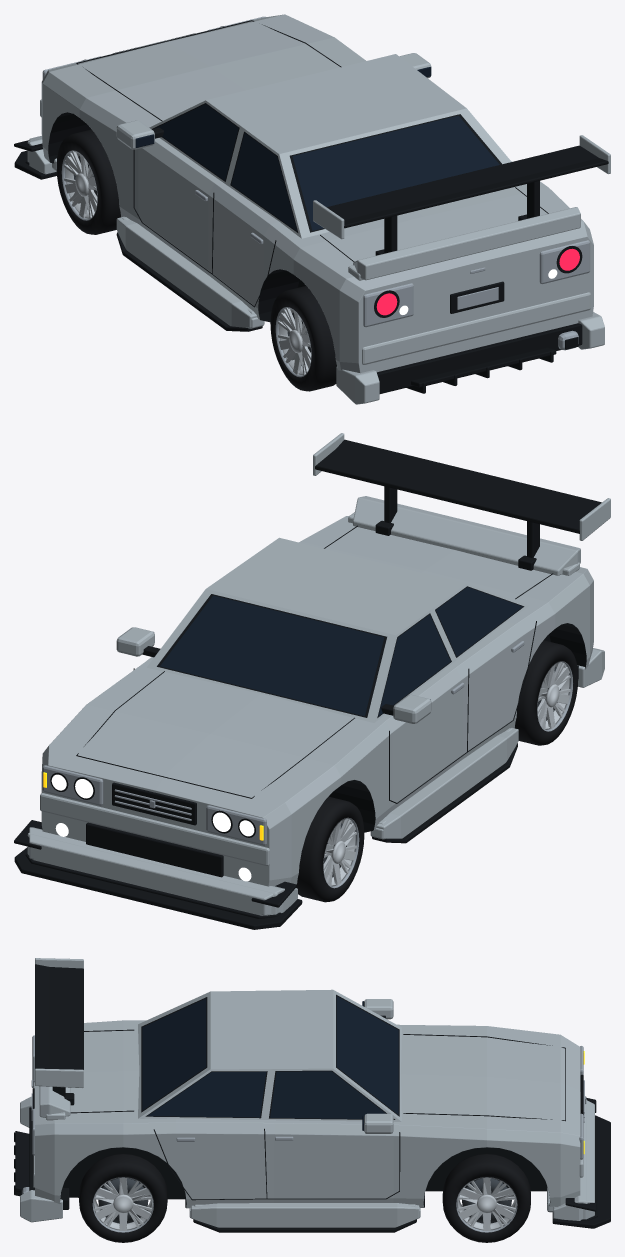
File: ns-cinder-01.glb
3 views of the same model, one above another, from view 1: azimuth 30°, elevation 25°; view 2: azimuth 150°, elevation 25°; view 3: azimuth 270°, elevation 25° (orthographic). The views are drawn at different scales.
Visible parts, largest first — view 1: coachwork, greenhouse, race-wing-airfoil, street-trunk-lip, race-skirt-left, rear-bumper-face, tire-rear-left, race-rear-valance, tire-front-left, race-diffuser, race-rear-spat-left, tail-housing-right (+12 smaller); view 2: coachwork, greenhouse, race-wing-airfoil, race-front-apron, street-trunk-lip, race-skirt-left, front-bumper-face, race-splitter, tire-front-left, tire-rear-left, lower-intake, street-front-lip (+9 smaller); view 3: coachwork, greenhouse, race-skirt-right, race-wing-airfoil, tire-front-right, tire-rear-right, race-front-apron, race-splitter, race-sill-blade-right, race-rear-spat-right, race-wing-endplate-right, race-diffuser (+12 smaller).
Part boxes in pixels (x1=…): coachwork: x1=41, y1=14, x2=593, y2=373; greenhouse: x1=149, y1=54, x2=511, y2=238; race-wing-airfoil: x1=326, y1=145, x2=608, y2=228; street-trunk-lip: x1=353, y1=207, x2=580, y2=280; race-skirt-left: x1=116, y1=216, x2=264, y2=328; rear-bumper-face: x1=362, y1=292, x2=590, y2=364; tire-rear-left: x1=270, y1=286, x2=336, y2=391; race-rear-valance: x1=377, y1=323, x2=582, y2=388; tire-front-left: x1=56, y1=129, x2=120, y2=234; race-diffuser: x1=411, y1=347, x2=556, y2=387; race-rear-spat-left: x1=336, y1=367, x2=379, y2=404; tail-housing-right: x1=539, y1=240, x2=590, y2=284; coachwork: x1=41, y1=515, x2=593, y2=886; greenhouse: x1=147, y1=537, x2=529, y2=722; race-wing-airfoil: x1=315, y1=439, x2=601, y2=533; race-front-apron: x1=29, y1=827, x2=297, y2=915; street-trunk-lip: x1=353, y1=496, x2=580, y2=575; race-skirt-left: x1=376, y1=728, x2=518, y2=838; front-bumper-face: x1=40, y1=793, x2=269, y2=865; race-splitter: x1=14, y1=847, x2=302, y2=929; tire-front-left: x1=296, y1=796, x2=364, y2=902; tire-rear-left: x1=515, y1=640, x2=578, y2=745; lower-intake: x1=86, y1=822, x2=223, y2=877; street-front-lip: x1=27, y1=832, x2=278, y2=915; coachwork: x1=35, y1=1020, x2=580, y2=1208; greenhouse: x1=138, y1=989, x2=401, y2=1121; race-skirt-right: x1=191, y1=1203, x2=419, y2=1227; race-wing-airfoil: x1=35, y1=964, x2=83, y2=1069; tire-front-right: x1=442, y1=1154, x2=530, y2=1242; tire-rear-right: x1=79, y1=1153, x2=167, y2=1242; race-front-apron: x1=553, y1=1100, x2=594, y2=1220; race-splitter: x1=552, y1=1115, x2=610, y2=1228; race-sill-blade-right: x1=193, y1=1219, x2=416, y2=1232; race-rear-spat-right: x1=20, y1=1190, x2=62, y2=1222; race-wing-endplate-right: x1=35, y1=1068, x2=83, y2=1087; race-diffuser: x1=15, y1=1131, x2=29, y2=1191.
Bounding box in the file's own units: 2.4 × 1.59 × 4.86.
